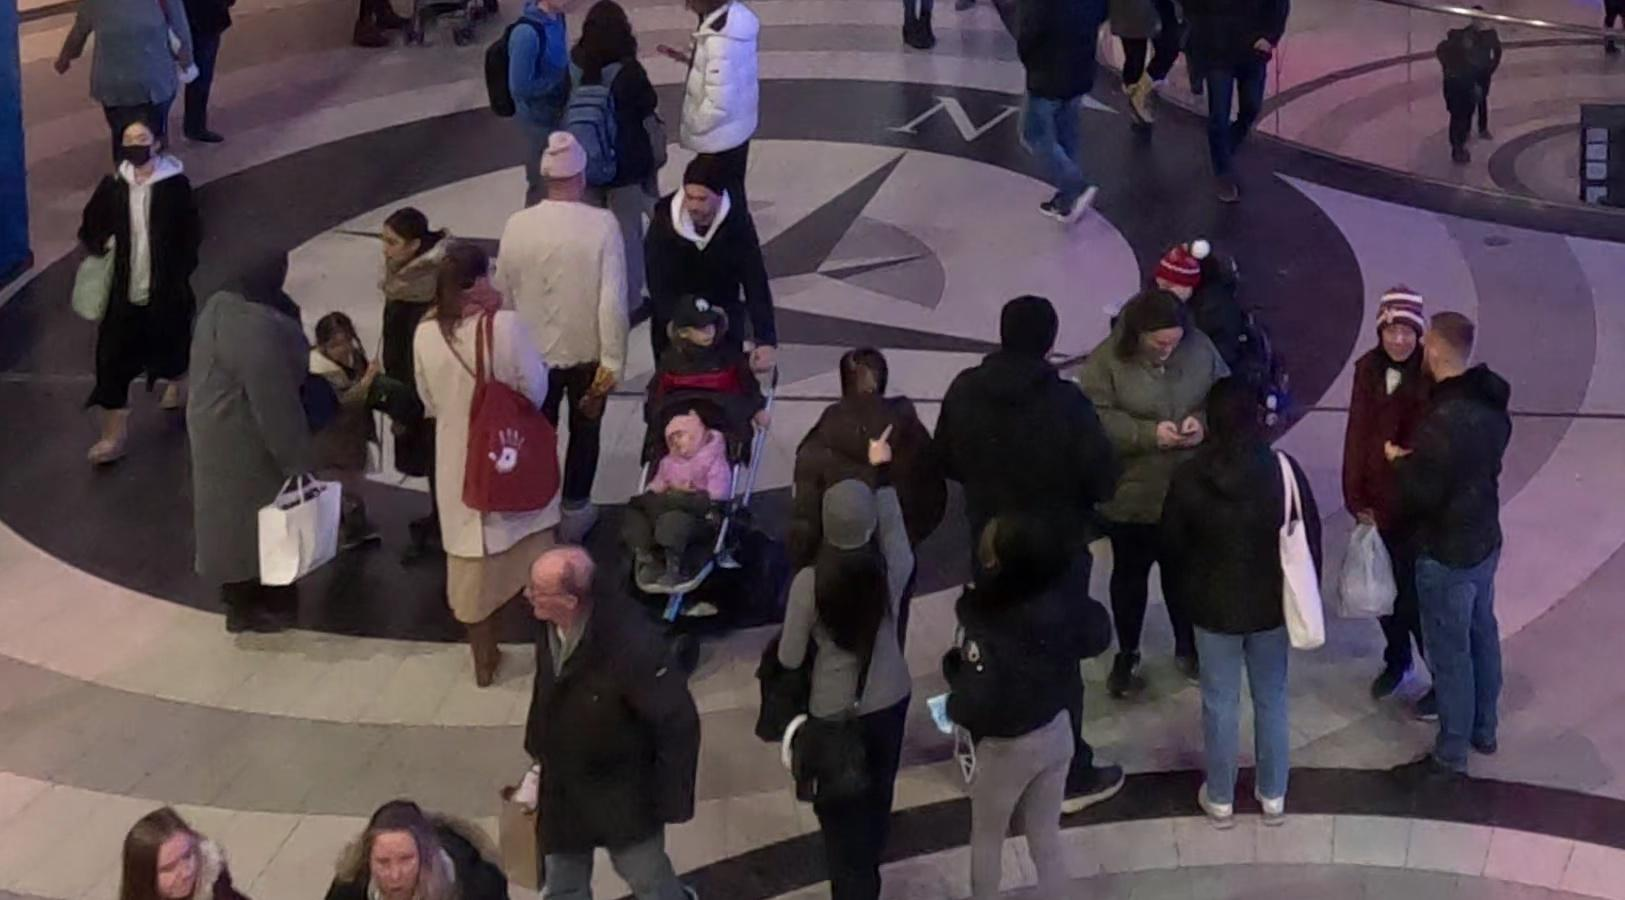person: (1142, 367, 1308, 834), (520, 531, 716, 895), (1390, 301, 1526, 801), (764, 472, 908, 897), (950, 516, 1105, 899), (413, 239, 549, 672), (185, 237, 328, 630), (948, 292, 1124, 588), (77, 114, 213, 480), (507, 127, 633, 507), (636, 161, 774, 455), (1007, 1, 1129, 238), (662, 3, 764, 217), (302, 792, 494, 898), (78, 802, 275, 898)
